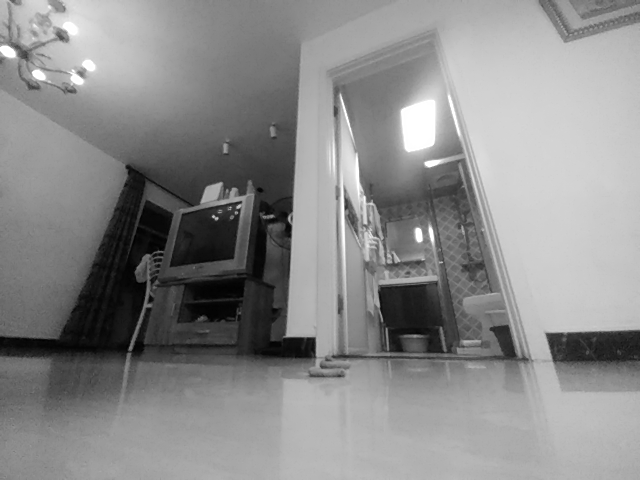curtain: (53, 164, 147, 357)
pet feces: (308, 354, 352, 380)
